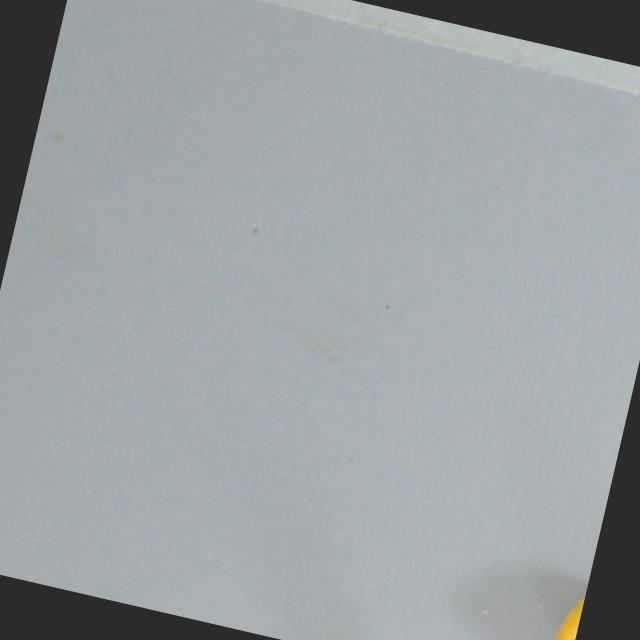pelicula: (552, 574, 589, 640)
